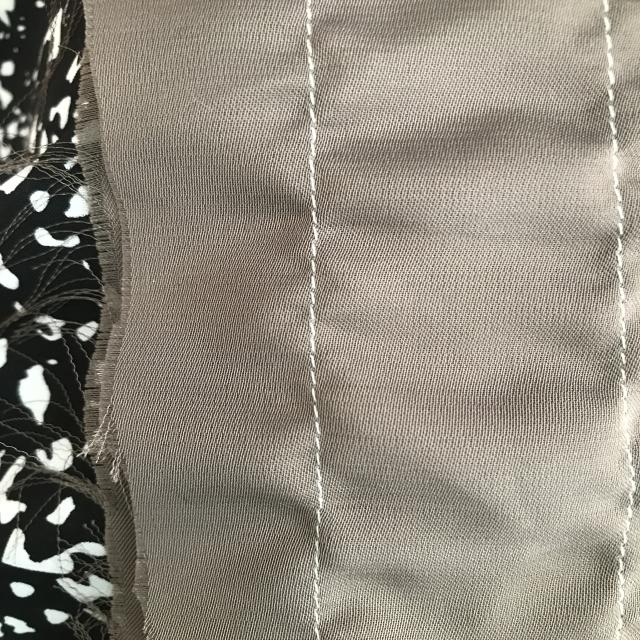good: (292, 227, 337, 423), (300, 498, 336, 615), (590, 35, 628, 137), (302, 47, 331, 177)
